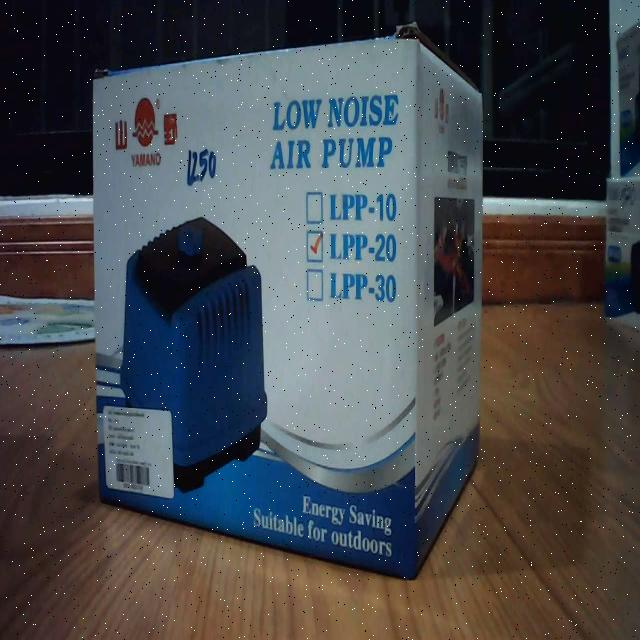YAMANO_LPP_20: (83, 6, 489, 584)
